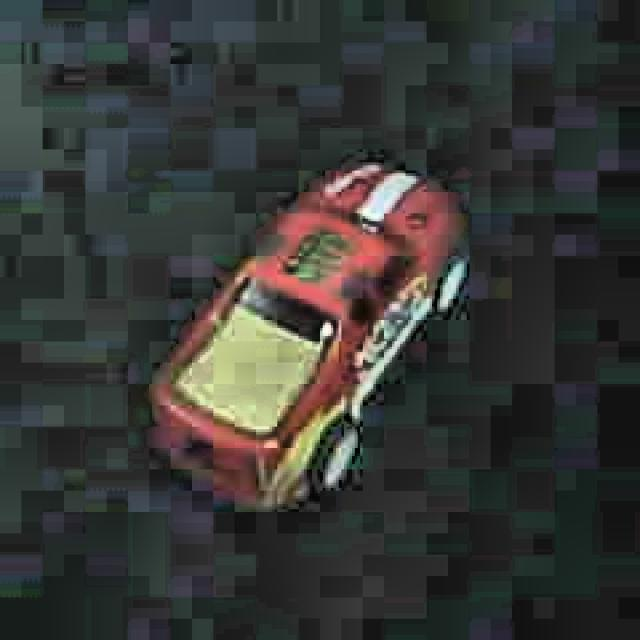car: (142, 155, 477, 520)
